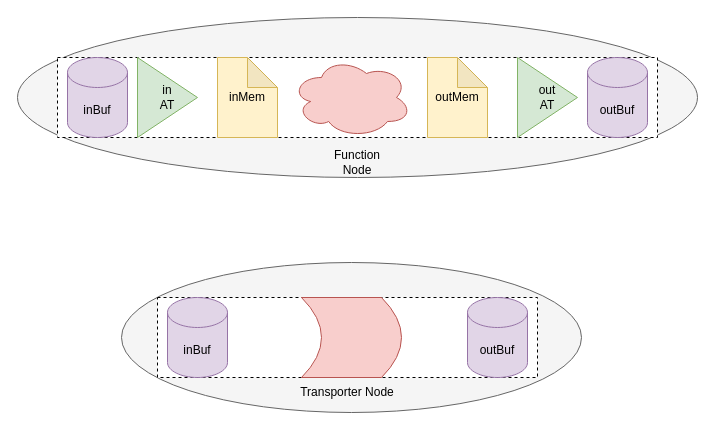
This 715x430 diagram has some shape labels left out. The shapes that lost their labels are listed below. From the top down, each one's centre as x and y in pixels, then its label:
the point at 351,97: process
the point at 351,337: Transporter
